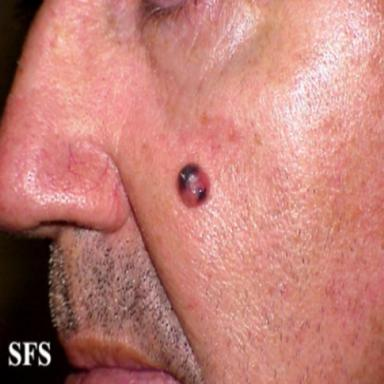Melanoma: (178, 164, 210, 206)
